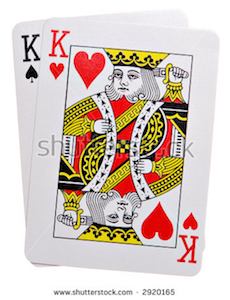KingOfHearts: (41, 14, 222, 278)
KingOfSpades: (11, 17, 46, 205)
